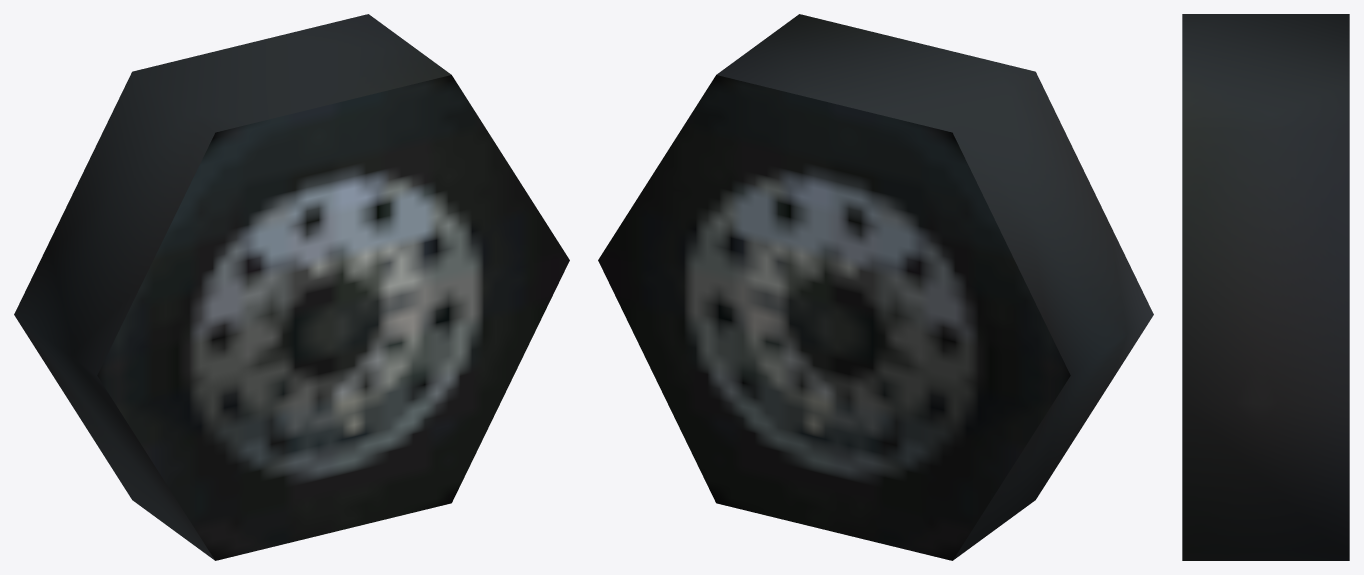
File: Shared - Ground Vehicles - Big Rig - Damage State 16 - CVBigRig_d16.glb
3 views of the same model, side by side, from view 1: azimuth 30°, elevation 25°; view 2: azimuth 150°, elevation 25°; view 3: azimuth 270°, elevation 25° (orthographic).
Visible parts, largest first — view 1: CVBIGRIG_D16; view 2: CVBIGRIG_D16; view 3: CVBIGRIG_D16.
Boxes of the visible parts, box(x1,y1,x2,y2) form: CVBIGRIG_D16: box(14, 14, 569, 560); CVBIGRIG_D16: box(598, 14, 1153, 560); CVBIGRIG_D16: box(1182, 14, 1349, 560).
Size of the model in its own units: 5.05 by 4.37 by 1.54.
Materials: 1 (1 with a texture image).
